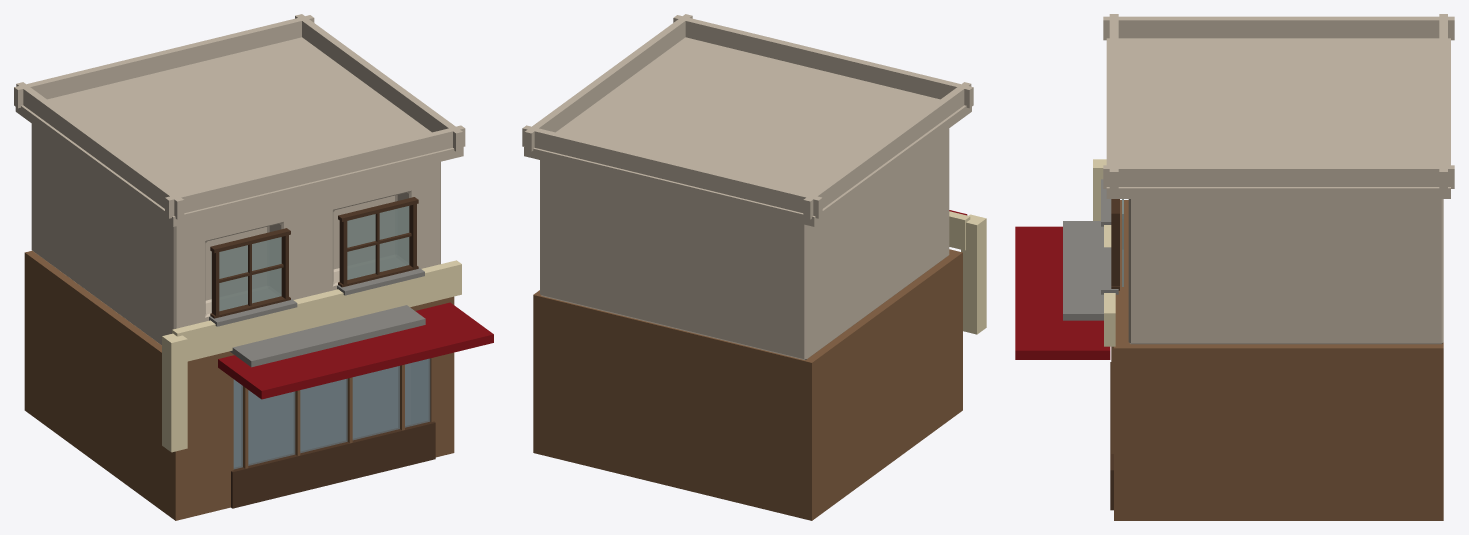
Rendered from SM_K_HouseC_Shop.obj.
3 views of the same model, side by side, from view 1: azimuth 30°, elevation 25°; view 2: azimuth 150°, elevation 25°; view 3: azimuth 270°, elevation 25° (orthographic). The views are drawn at different scales.
Visible parts, largest first — view 1: SM_K_HouseC_Shop; view 2: SM_K_HouseC_Shop; view 3: SM_K_HouseC_Shop.
Boxes of the visible parts, x1,y1,x2,y2 form: SM_K_HouseC_Shop: (14,14,493,520); SM_K_HouseC_Shop: (522,14,986,520); SM_K_HouseC_Shop: (1015,14,1454,520).
Size of the model in its own units: 5.19 by 5.33 by 6.
